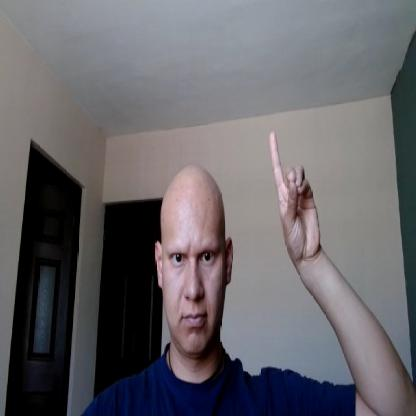D: (270, 133, 320, 258)
